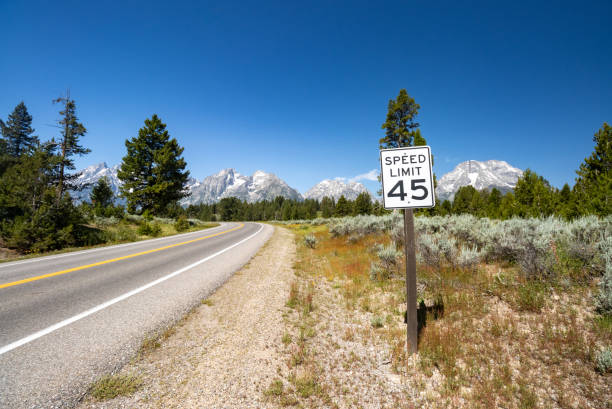SpeedLimitSign: (378, 144, 436, 209)
